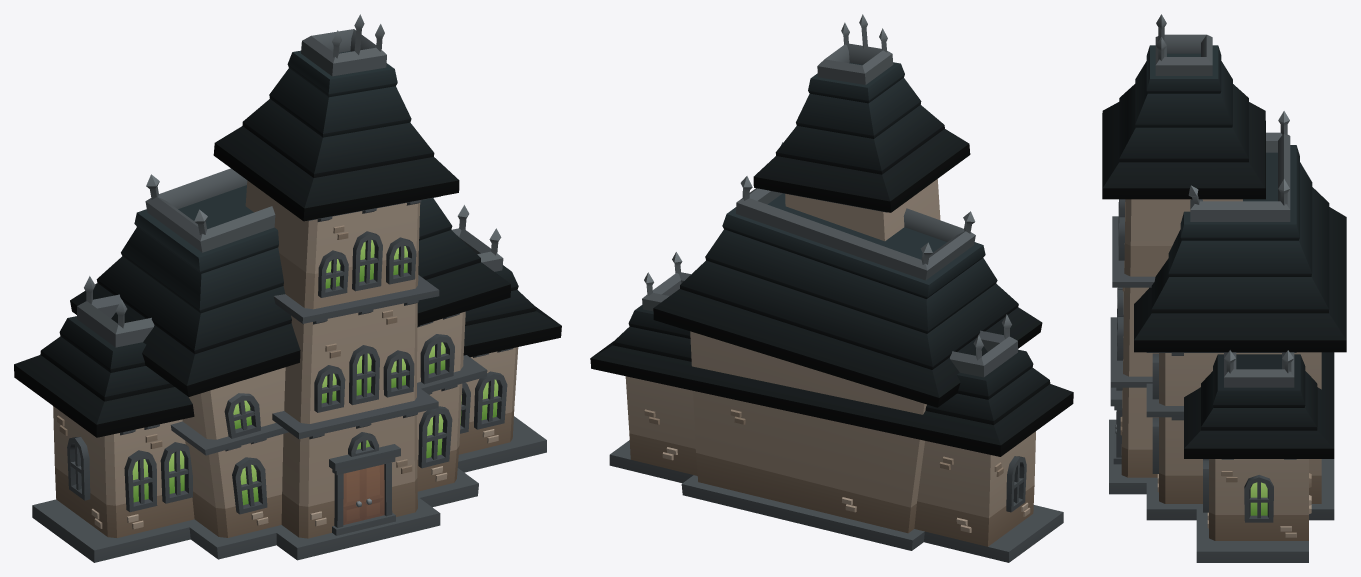
Rendered from haunted_manor.gltf.
The picture shows the model from 3 angles, left to right: view 1: azimuth 30°, elevation 25°; view 2: azimuth 150°, elevation 25°; view 3: azimuth 270°, elevation 25°; orthographic projection. The views are drawn at different scales.
Visible parts, largest first — view 1: haunted_manor; view 2: haunted_manor; view 3: haunted_manor.
Boxes of the visible parts, <box> form: haunted_manor: <box>14,14,561,562</box>; haunted_manor: <box>590,14,1073,562</box>; haunted_manor: <box>1102,14,1346,562</box>.
Size of the model in its own units: 3.91 by 4.03 by 1.95.
2 materials, 2 textured.
